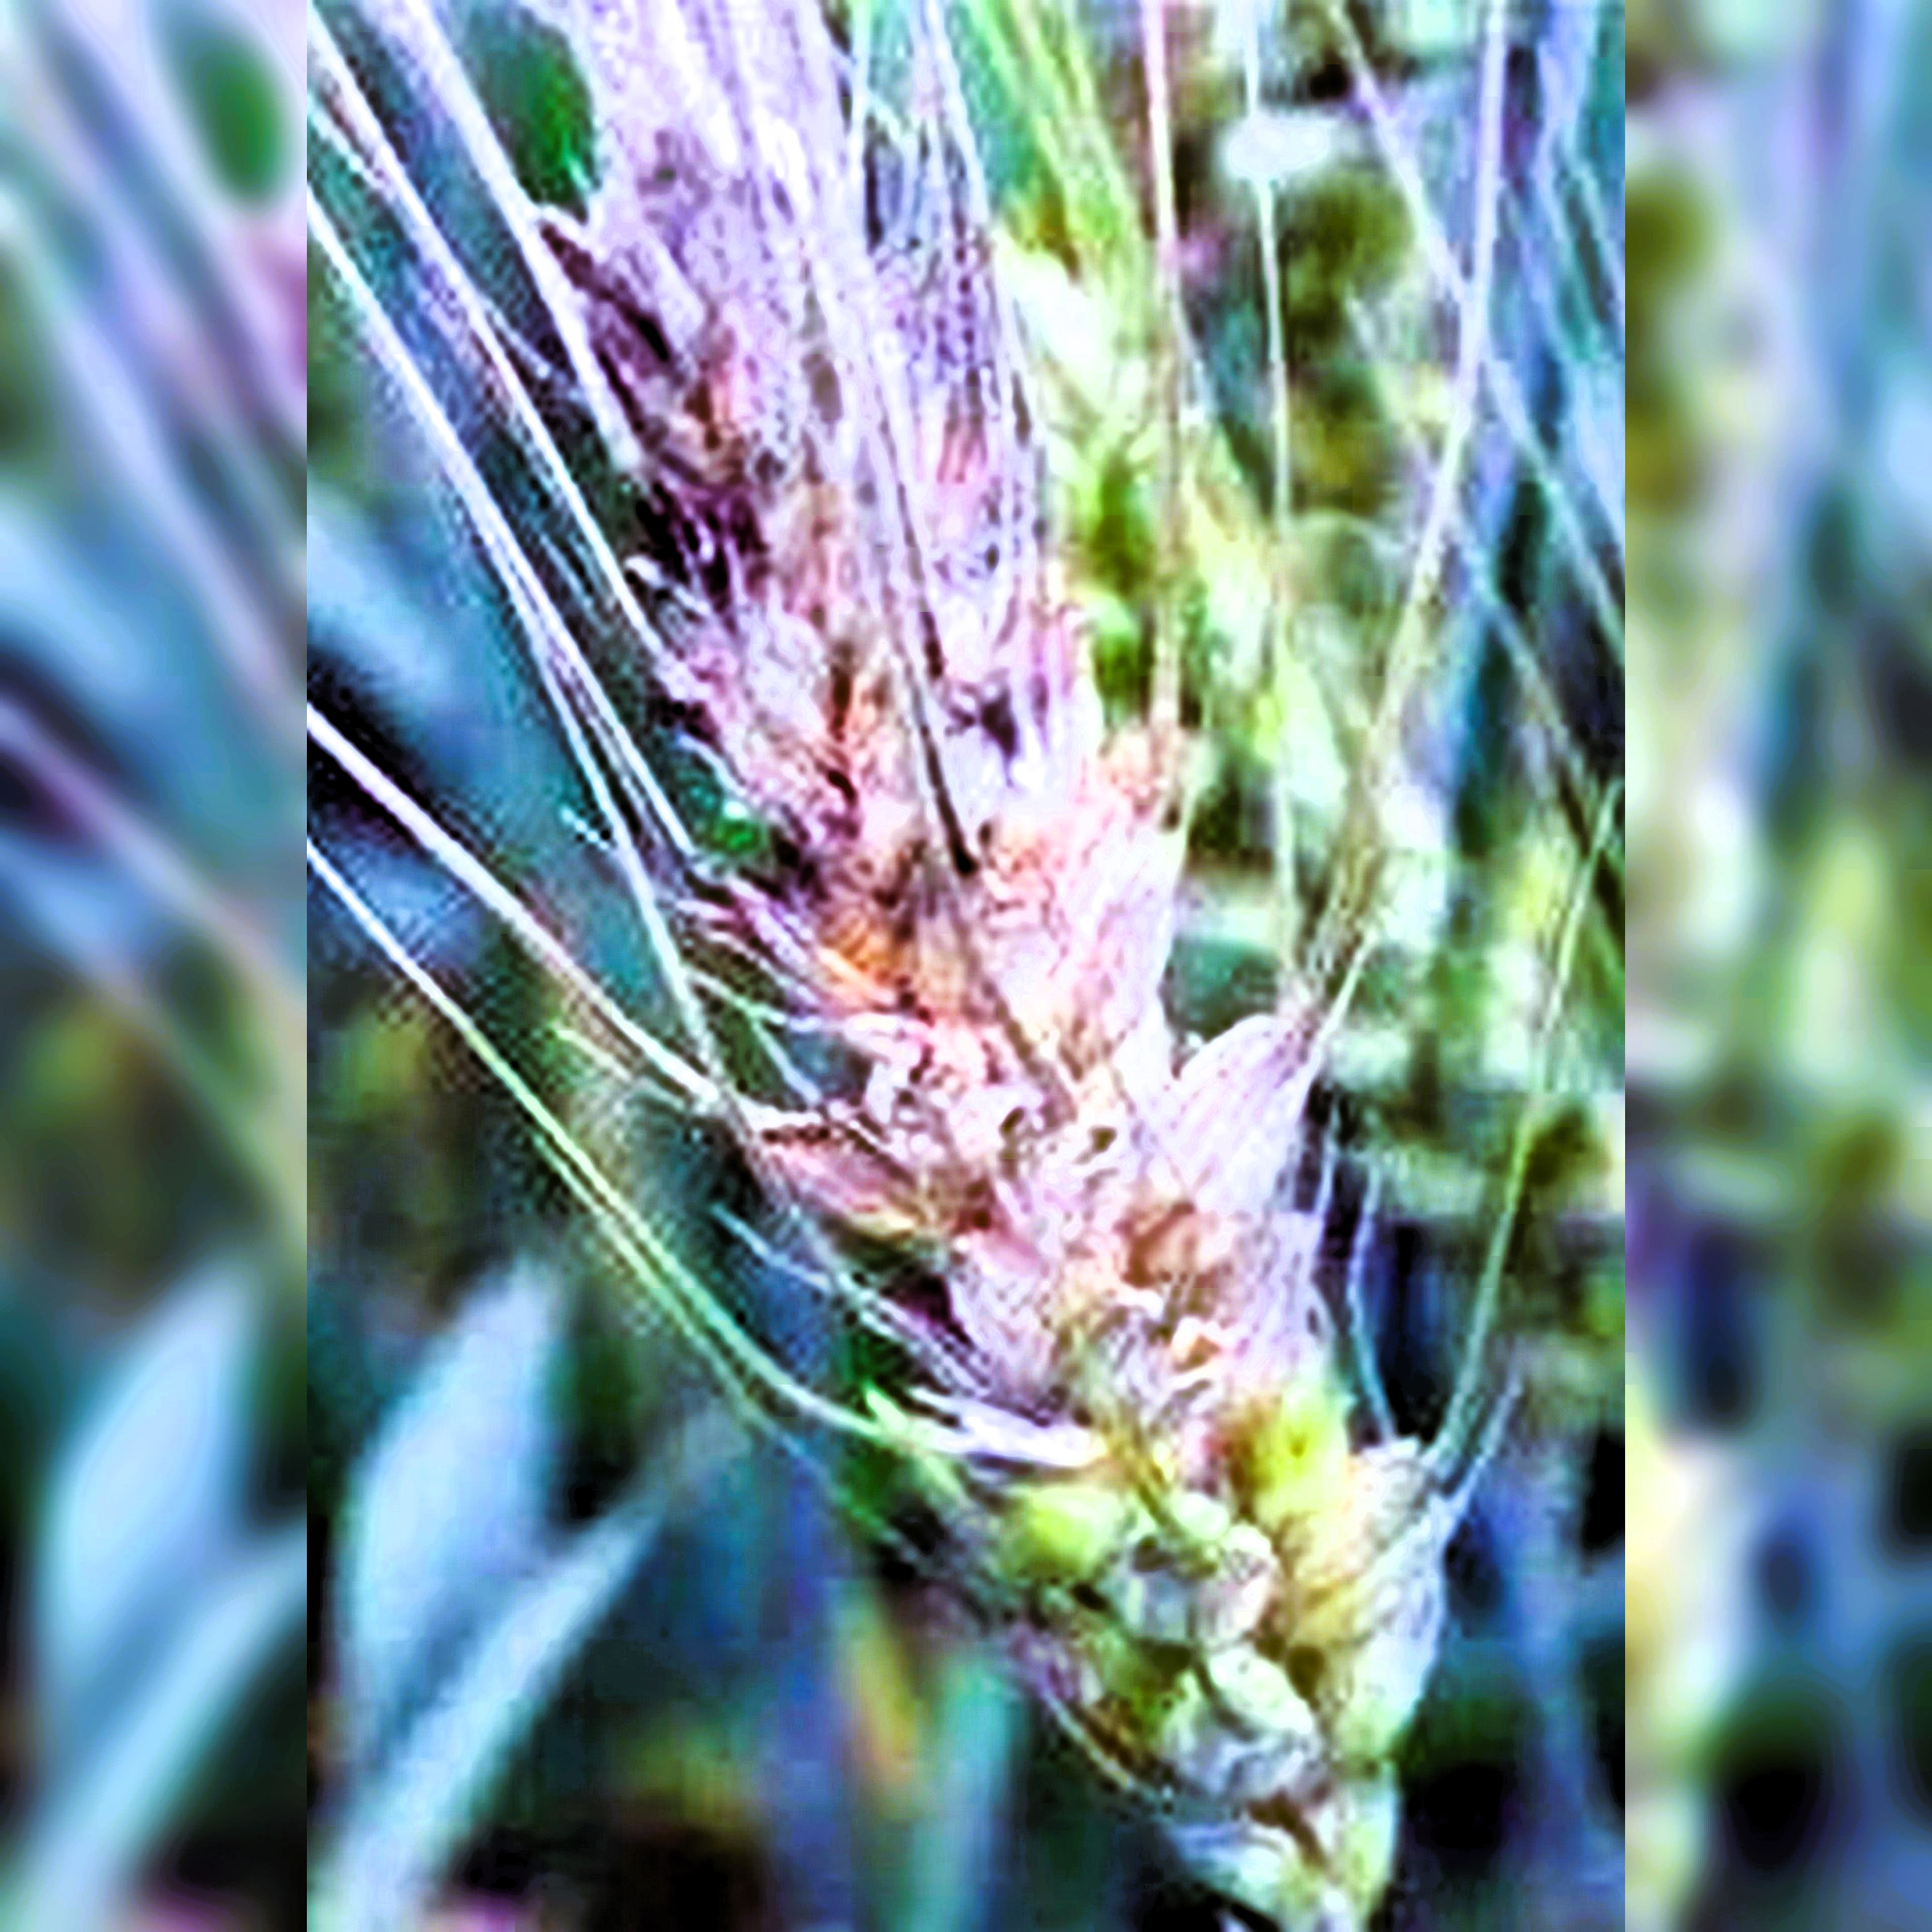Wheat scab: (738, 734, 1493, 1806)
